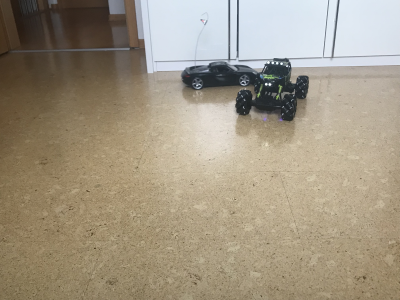remote control car: (234, 55, 312, 122)
